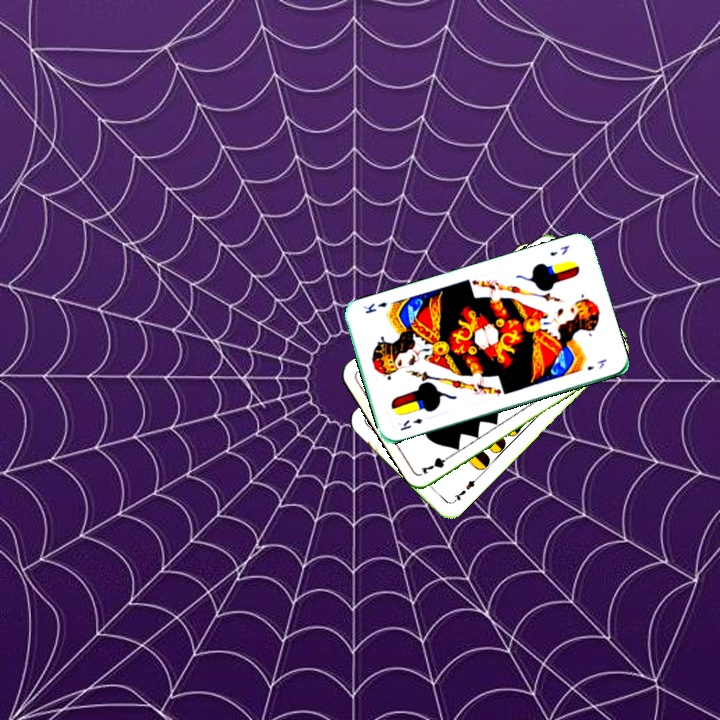E7: (448, 473, 480, 505)
EK: (396, 414, 425, 433), (546, 241, 572, 259)
G7: (417, 450, 455, 477)
